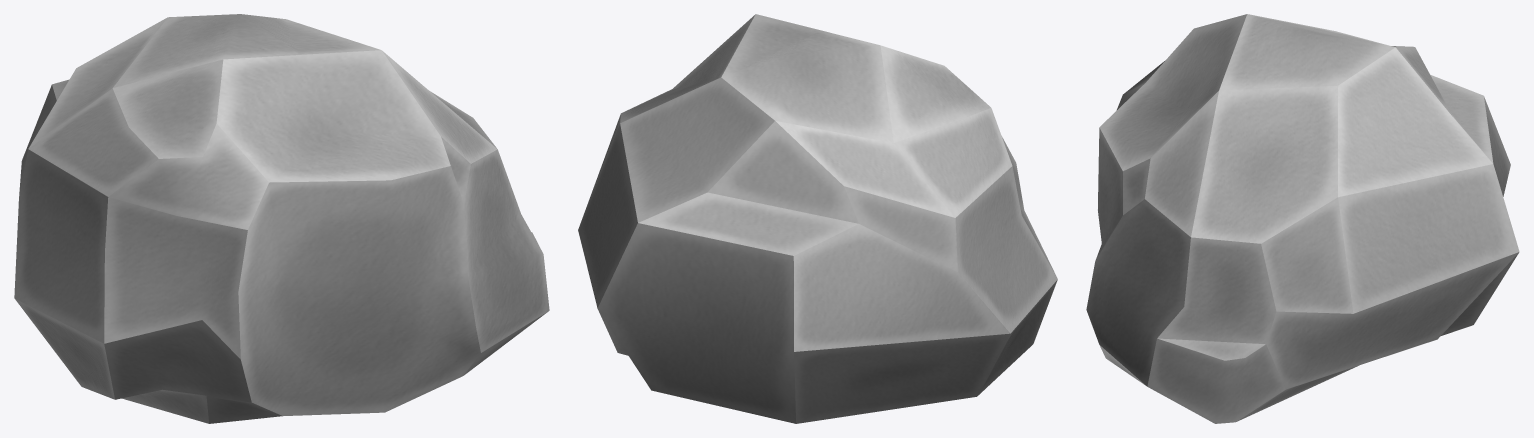
The model's file is Pickup Rock.FBX.
The picture shows the model from 3 angles, left to right: view 1: azimuth 30°, elevation 25°; view 2: azimuth 150°, elevation 25°; view 3: azimuth 270°, elevation 25°; orthographic projection. The views are drawn at different scales.
Parts seen in each view (by area): view 1: Plane002; view 2: Plane002; view 3: Plane002.
Boxes of the visible parts, <box> form: Plane002: <box>14,14,549,423</box>; Plane002: <box>578,14,1057,423</box>; Plane002: <box>1086,14,1519,423</box>.
Bounding box in the file's own units: 61.45 × 39.85 × 54.09.
